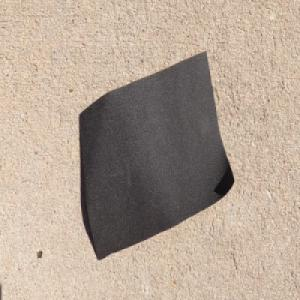PaintChip: (77, 47, 234, 260)
